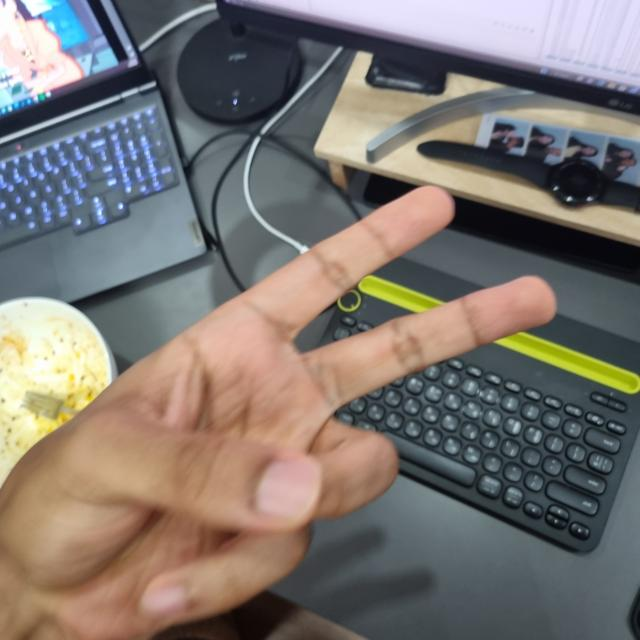Scissors: (0, 192, 553, 639)
